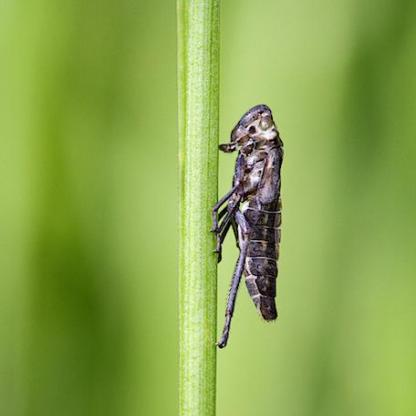Green-Leafhopper: (214, 100, 290, 358)
